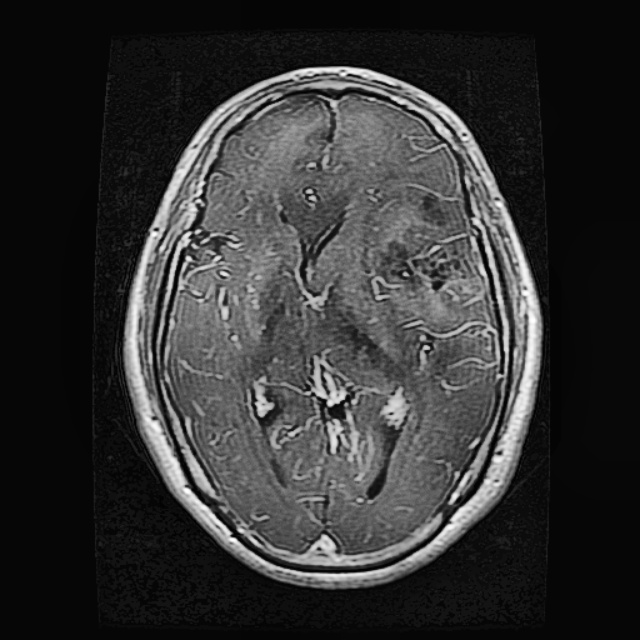Pituitary: (375, 220, 482, 305)
